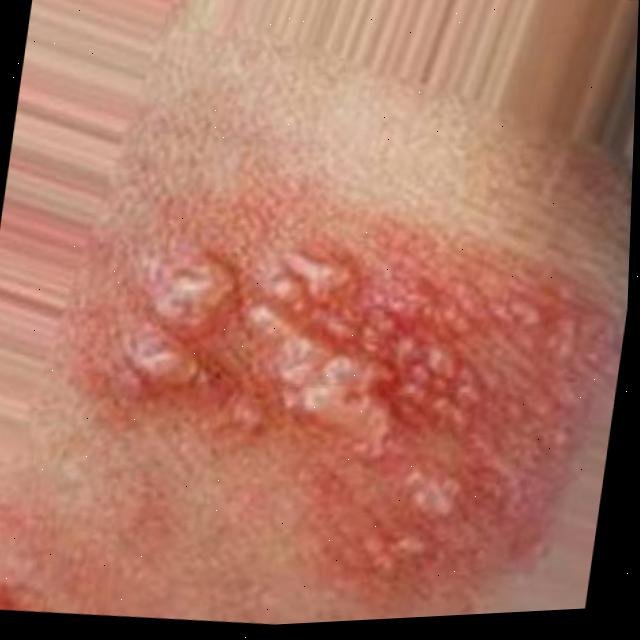Shingles: (91, 215, 609, 607)
